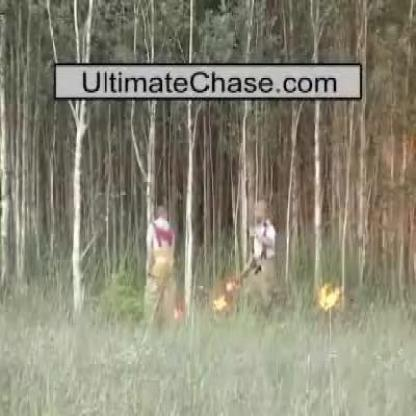foggia-v2-map80-epoch100 - v1 4323: (319, 283, 340, 310)
